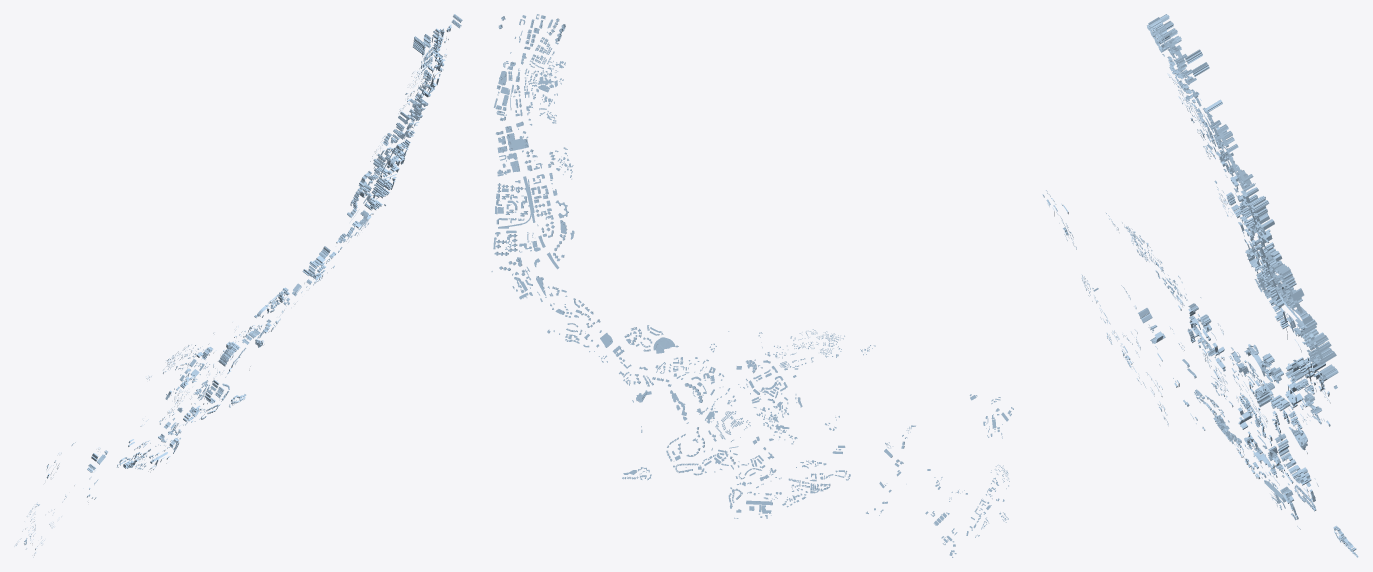
3 renders of one model, left to right at view 1: azimuth 30°, elevation 25°; view 2: azimuth 150°, elevation 25°; view 3: azimuth 270°, elevation 25°, orthographic. The views are drawn at different scales.
Visible parts, largest first — view 1: geometry_0; view 2: geometry_0; view 3: geometry_0.
Part boxes in pixels (bbox=[...]): geometry_0: bbox=[14, 14, 462, 557]; geometry_0: bbox=[491, 14, 1013, 557]; geometry_0: bbox=[1042, 14, 1358, 557].
Bounding box in the file's own units: 5262 × 4589 × 1792.
